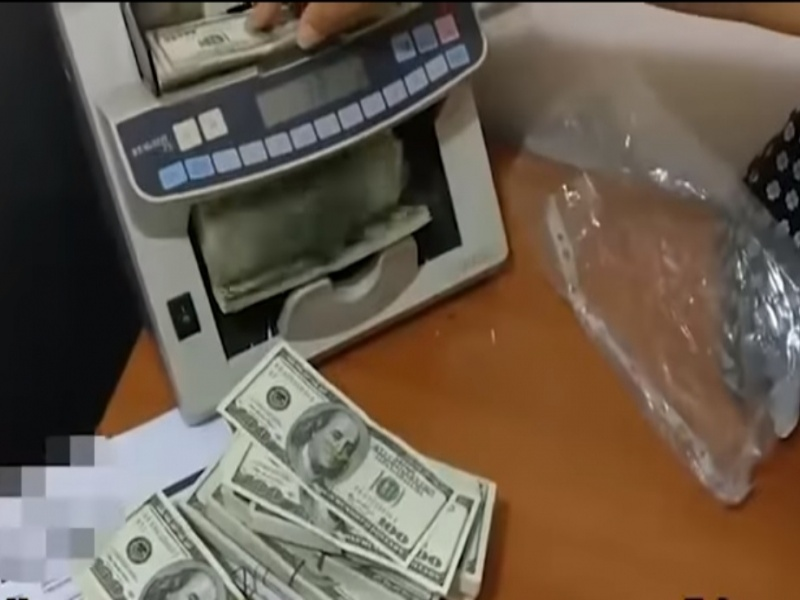cash: (79, 341, 500, 600), (191, 128, 433, 313), (145, 6, 304, 88)
